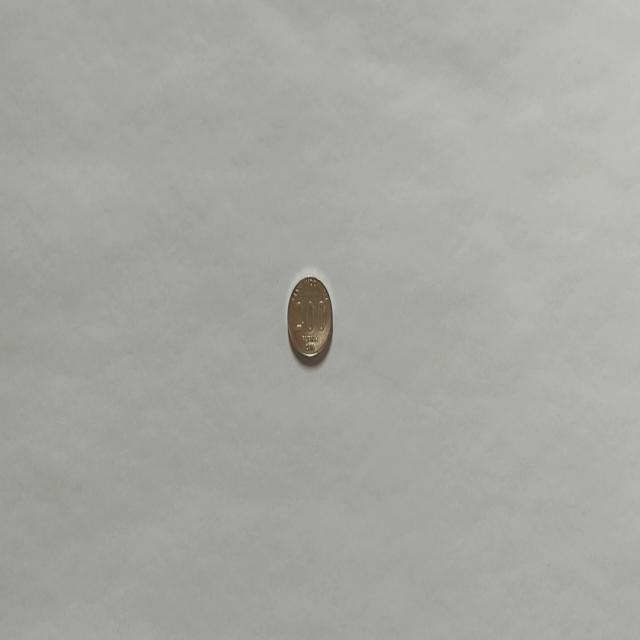dua ratus rupiah: (286, 274, 333, 360)
